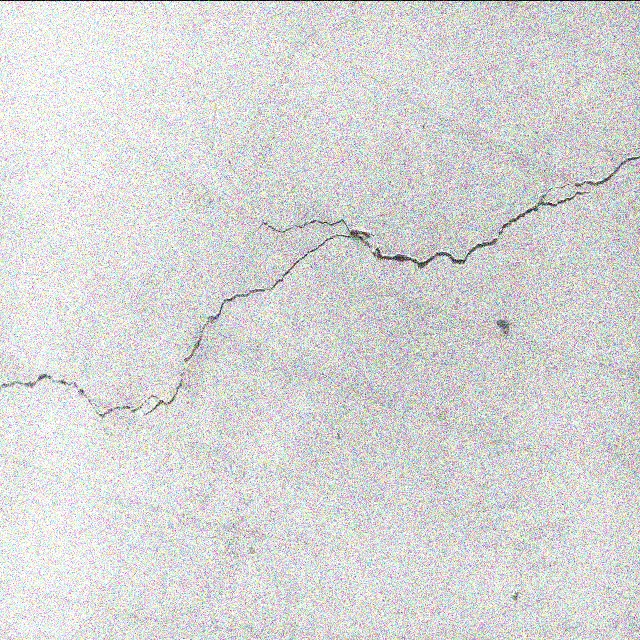SurfaceCrack: (0, 105, 639, 448)
